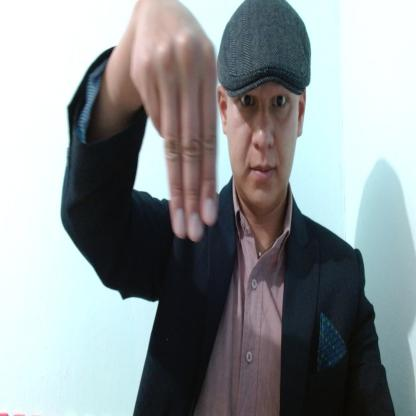M: (131, 3, 216, 239)
